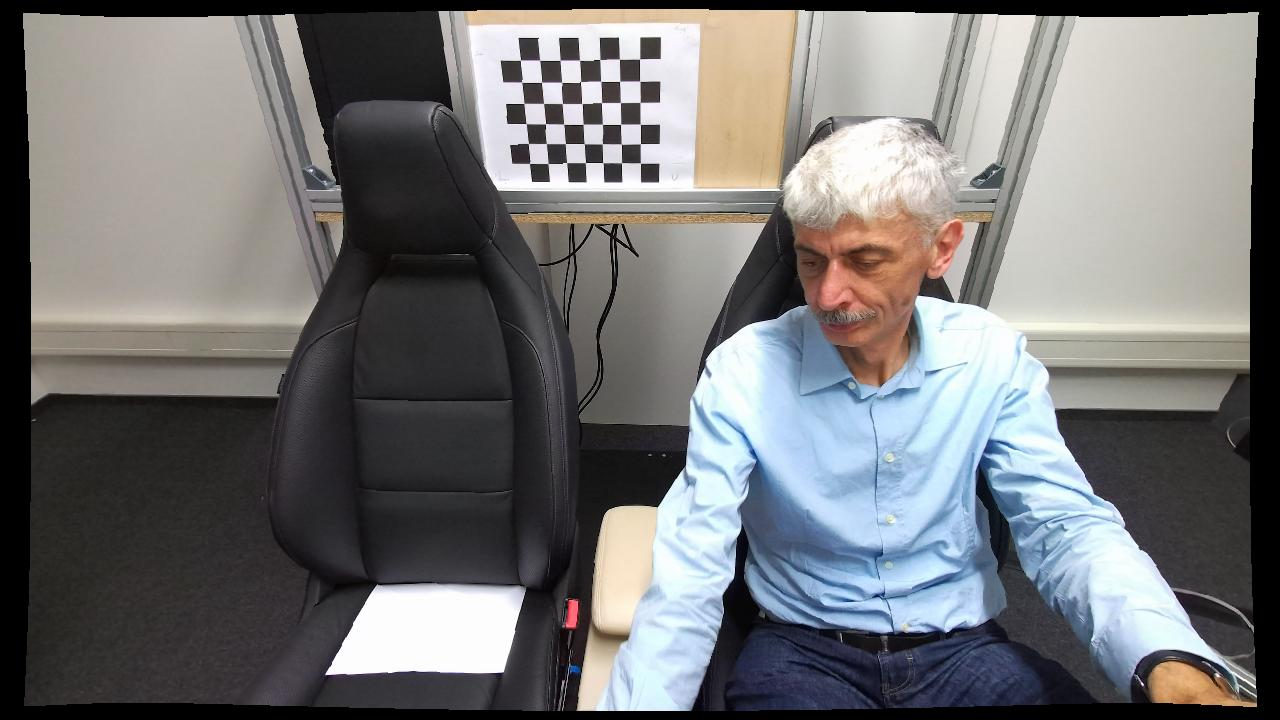Distracted: (589, 106, 1052, 714)
